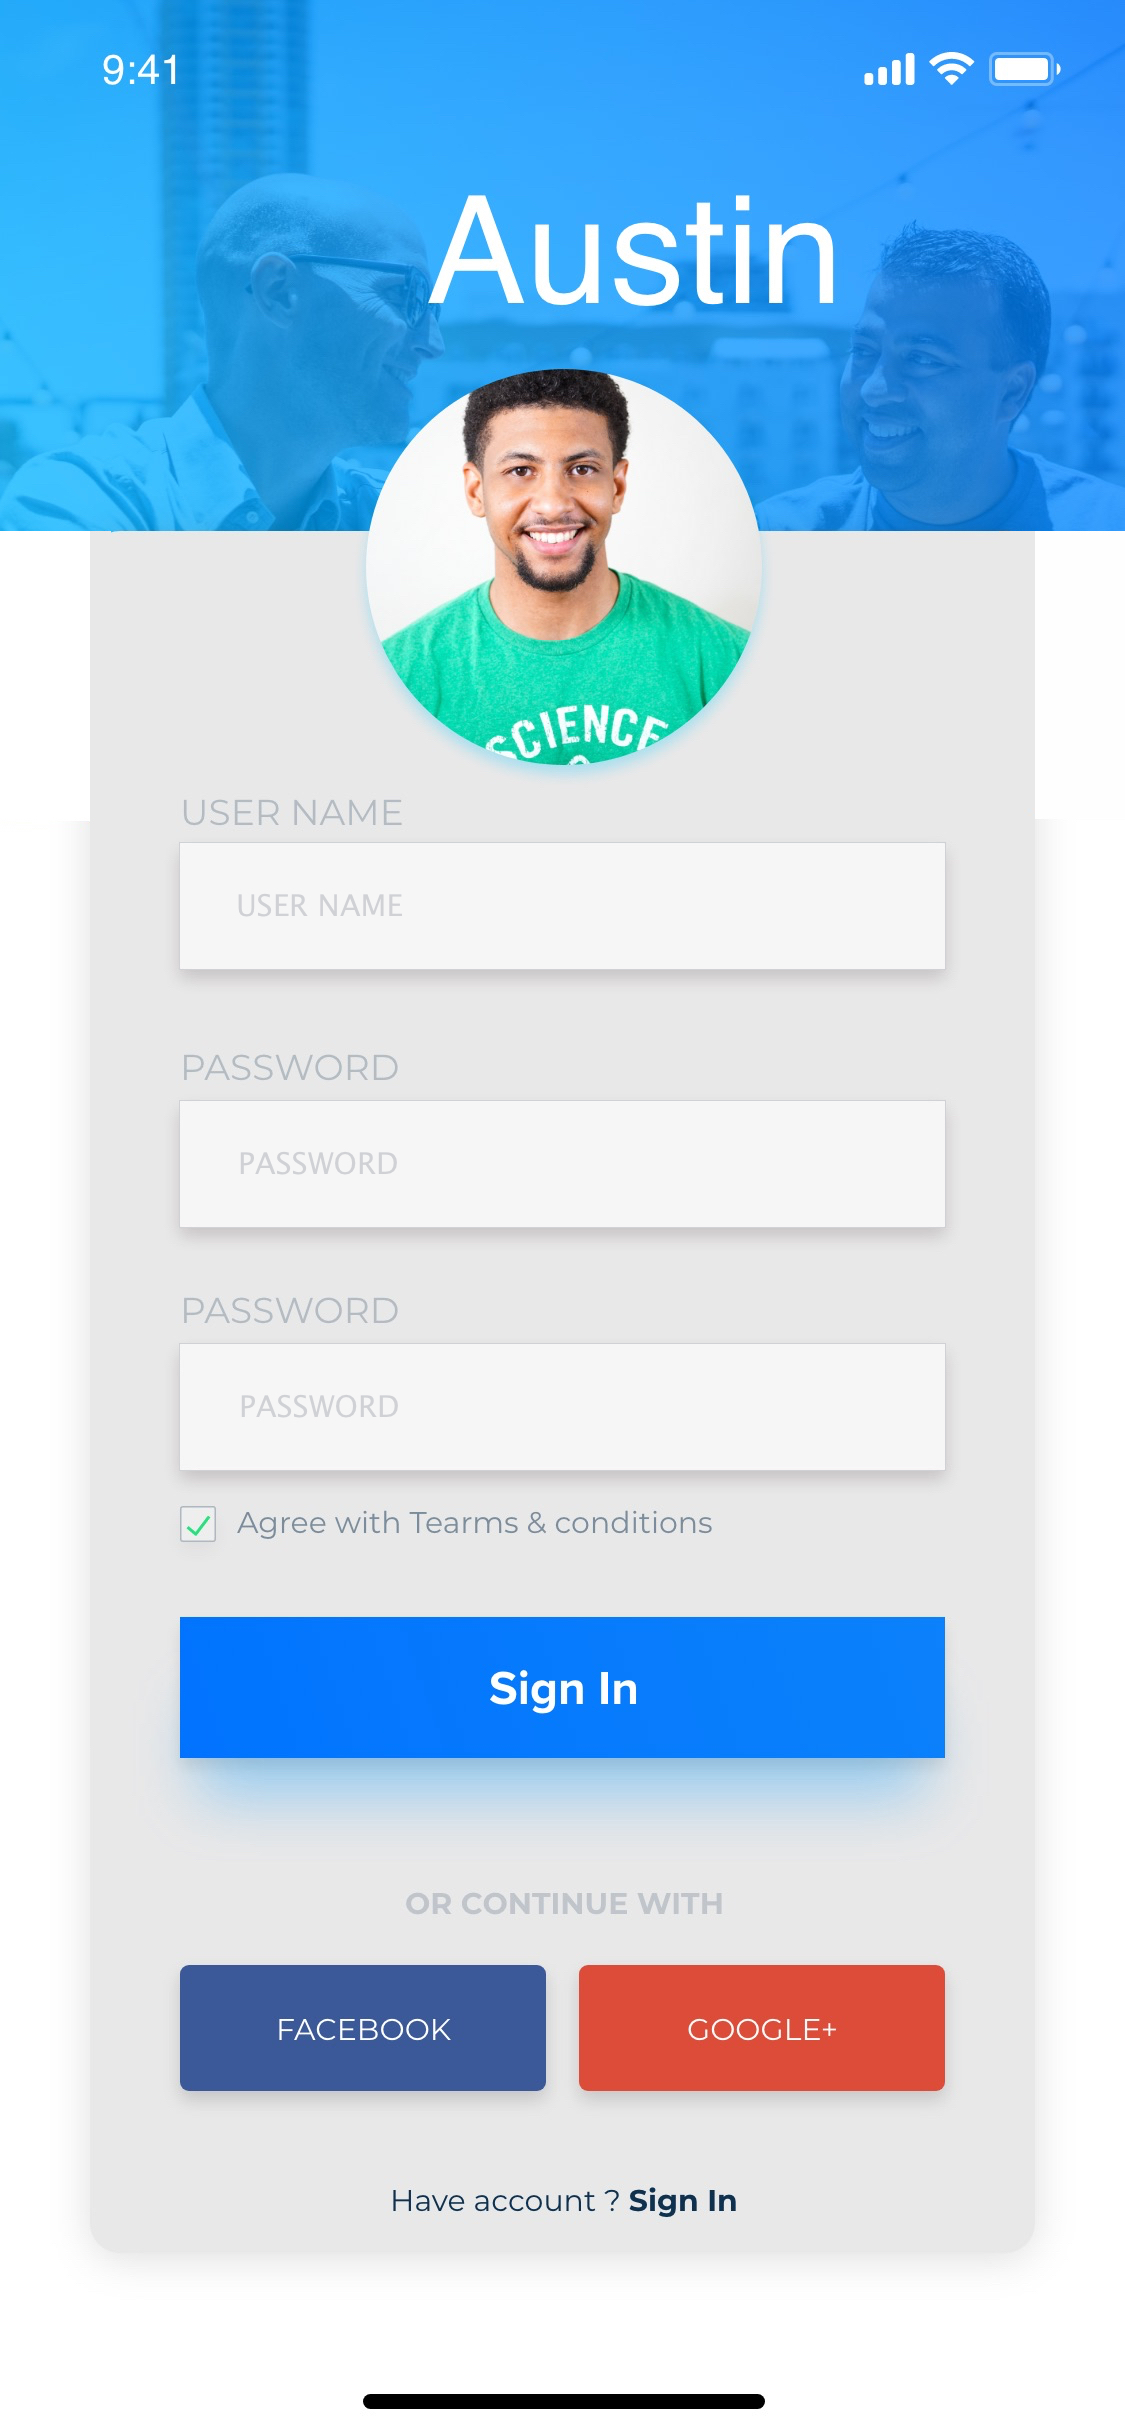CheckedTextView: (180, 1505, 713, 1543)
EditText: (180, 1342, 946, 1471), (180, 842, 946, 969), (180, 1100, 946, 1227)
Image: (2, 2, 1125, 531), (367, 370, 761, 767)
Text: (427, 194, 834, 308), (238, 1510, 713, 1540), (392, 2186, 737, 2218), (406, 1892, 723, 1916), (183, 799, 404, 826), (183, 1053, 399, 1081), (183, 1297, 399, 1325), (238, 893, 404, 918), (242, 1394, 399, 1418), (239, 1153, 399, 1176)
TextButton: (180, 1616, 946, 1759), (180, 1964, 547, 2093), (580, 1964, 946, 2093)
UpperTaskBar: (103, 51, 1061, 89)
